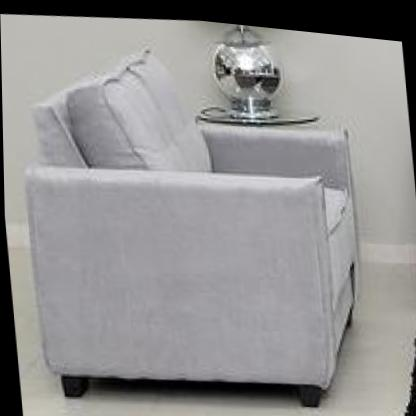Sofa: (13, 14, 369, 416)
